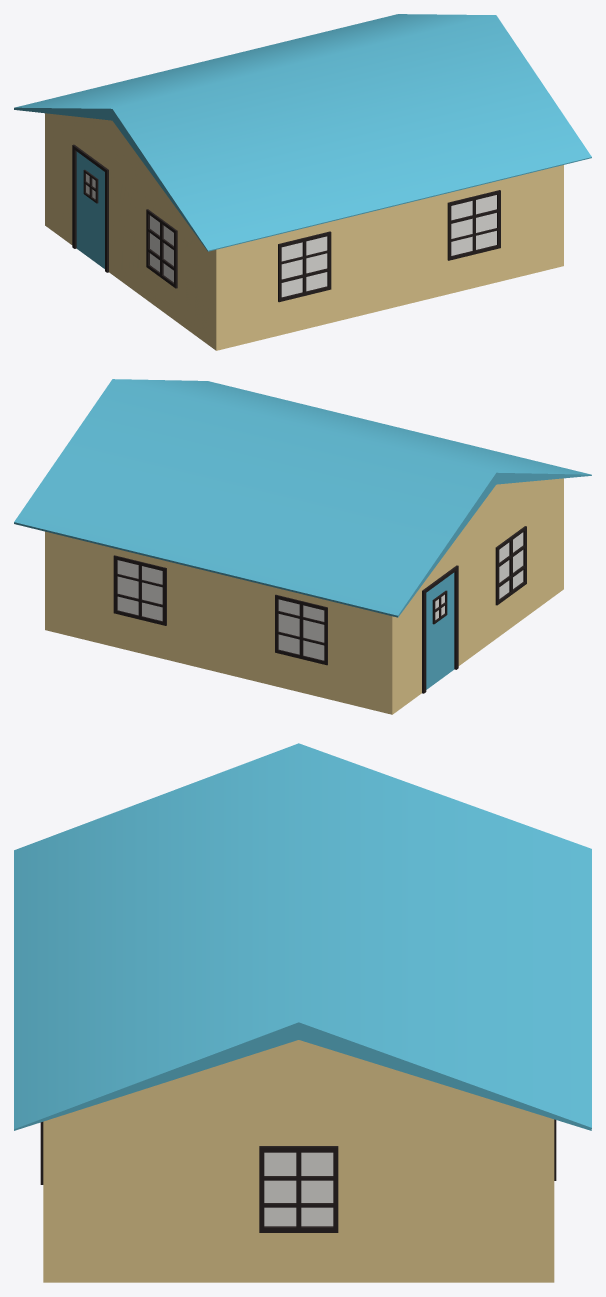
Rendered from House 01 B.FBX.
The picture shows the model from 3 angles, top to bottom: view 1: azimuth 30°, elevation 25°; view 2: azimuth 150°, elevation 25°; view 3: azimuth 270°, elevation 25°; orthographic projection. The views are drawn at different scales.
Parts seen in each view (by area): view 1: Box001; view 2: Box001; view 3: Box001.
Part boxes in pixels (<box>): Box001: <box>14,14,591,350</box>; Box001: <box>14,379,591,714</box>; Box001: <box>14,743,591,1282</box>.
Size of the model in its own units: 17.37 by 7.94 by 15.21.
